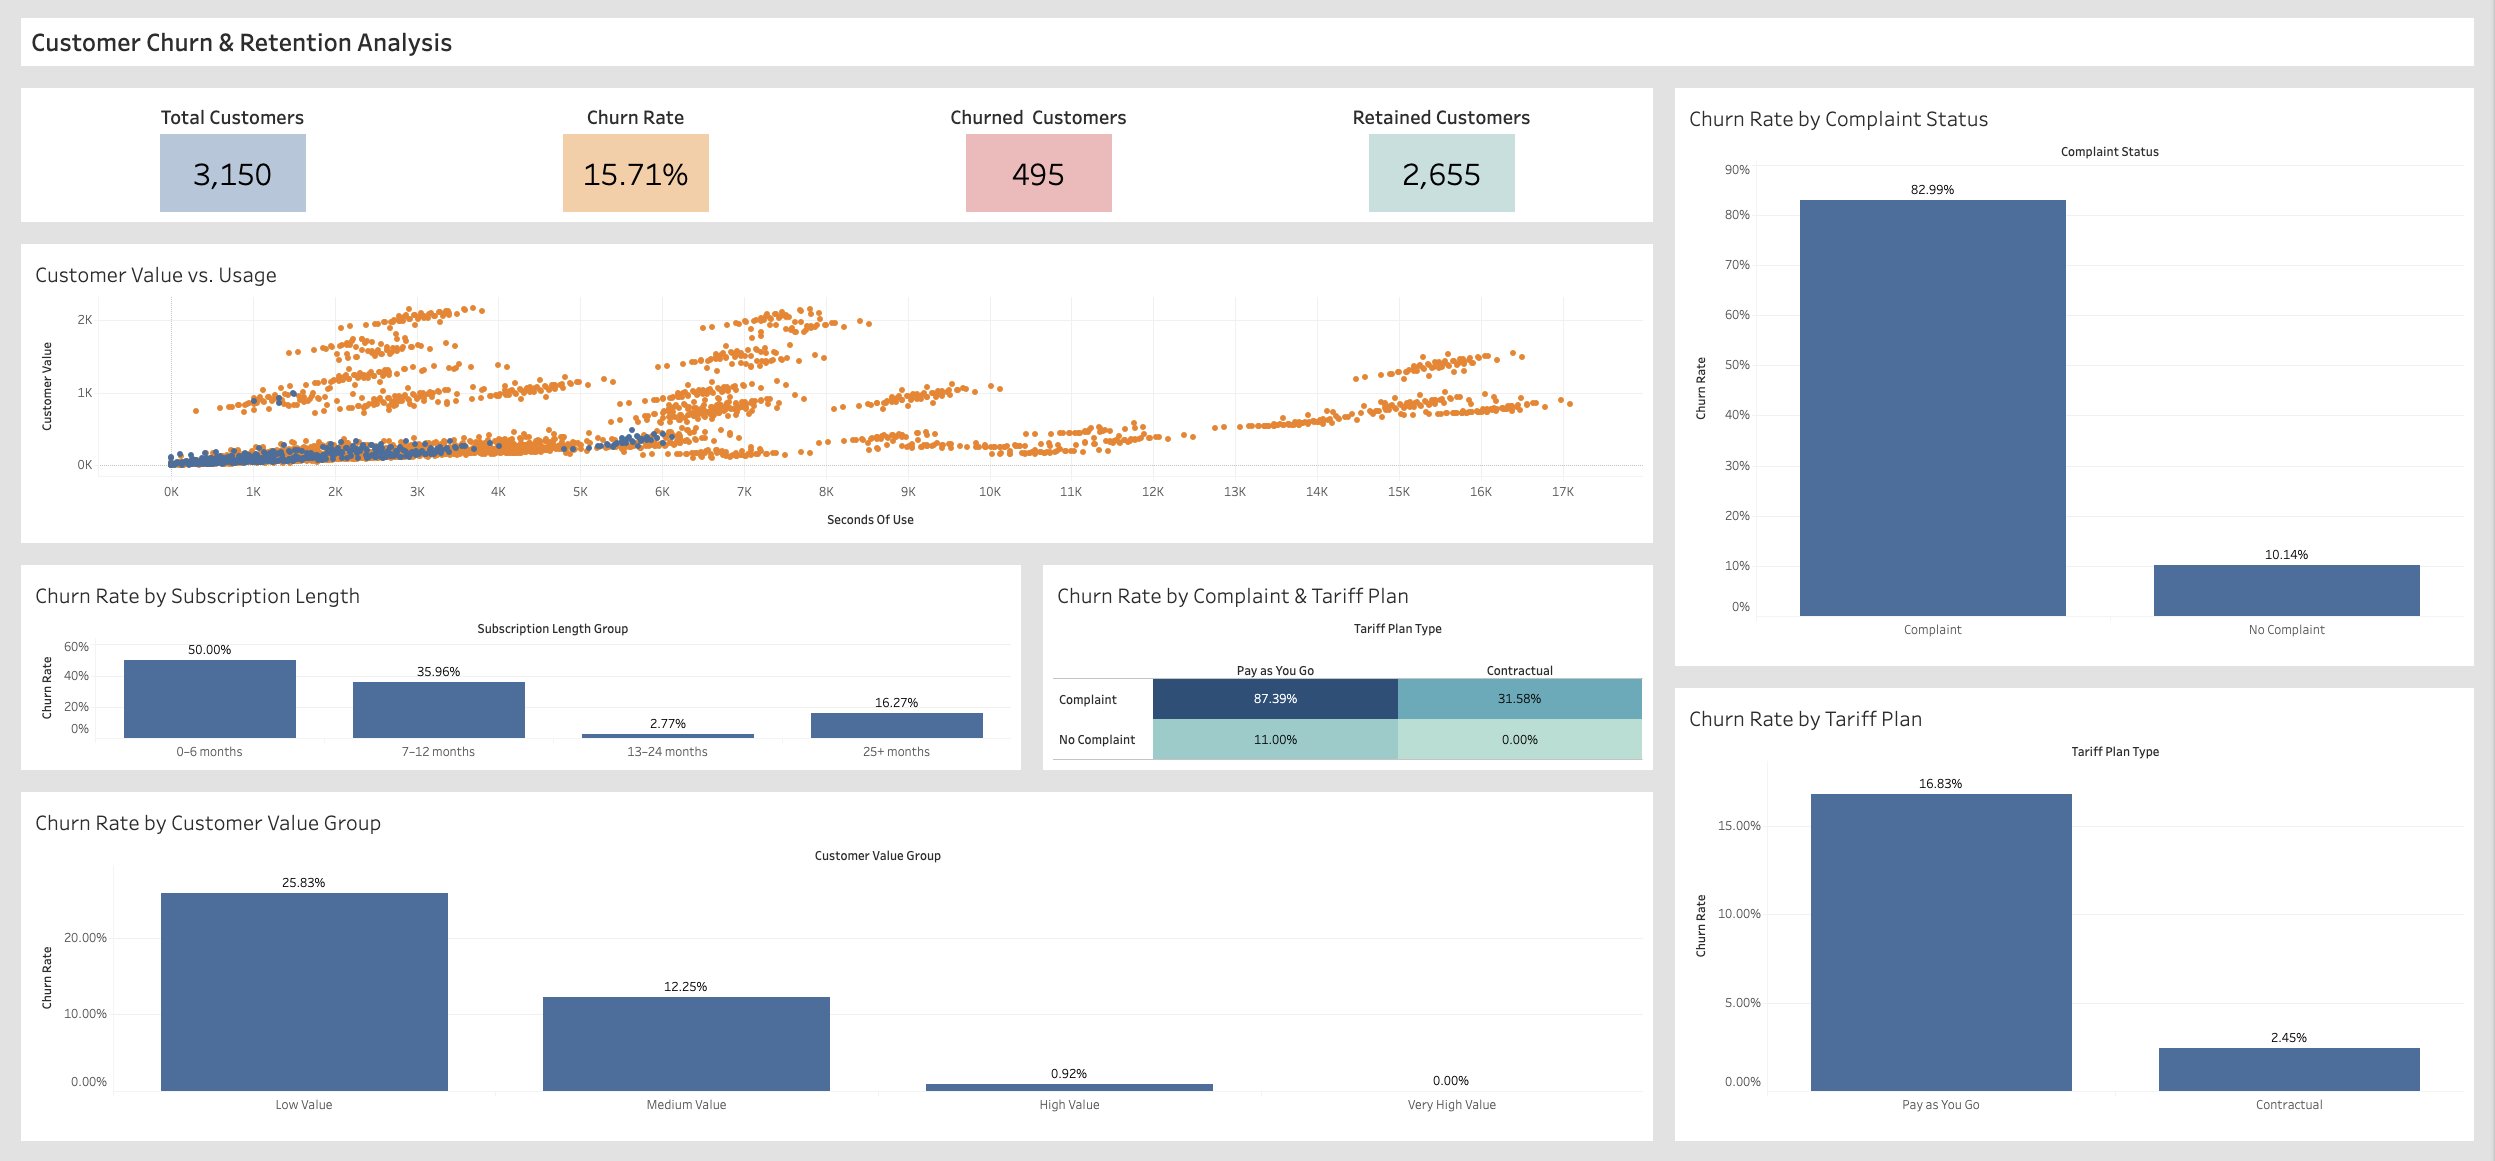

The page's visual inventory and layout, read from the dashboard file:
{"tool":"tableau","page":{"name":"Customer Churn & Retention Analysis","canvas":[1501,1160],"ordinal":0},"visuals":[{"type":"title","box":[8,8,992.4,54]},{"type":"worksheet","title":"Churn Rate by Complaint Status","mark":"Bar","rows":["churn"],"cols":["Calculation_0992975427104768"],"box":[1000.4,8,492.6,600]},{"type":"worksheet","title":"KPIs","mark":"Square","box":[8,62,992.4,156]},{"type":"worksheet","title":"Customer Value vs. Usage","mark":"Circle","rows":["customer_value"],"cols":["seconds_of_use"],"box":[8,218,992.4,410]},{"type":"worksheet","title":"Churn Rate by Tariff Plan","mark":"Bar","rows":["churn"],"cols":["Calculation_2208006962851841"],"box":[1000.4,608,492.6,544]},{"type":"worksheet","title":"Churn Rate by Subscription Length","mark":"Automatic","rows":["churn"],"cols":["Calculation_0992975428231169"],"box":[8,628,613.4,235]},{"type":"worksheet","title":"Churn Rate by Complaint & Tariff Plan","mark":"Automatic","rows":["Calculation_2208006962491392"],"cols":["Calculation_2208006962851841"],"box":[621.4,628,379,235]},{"type":"worksheet","title":"Churn Rate by Customer Value Group","mark":"Automatic","rows":["churn"],"cols":["Calculation_1161750575230977"],"box":[8,863,992.4,289]}]}

Visuals, with their boxes on the page's 1501x1160 design canvas (x1, y1, x2, y2). These are canvas units, not pixel positions in the 2495x1161 screenshot, which may show the page scaled, cropped or inside an application window:
title: 8:8:1000:62
"Churn Rate by Complaint Status" worksheet (Bar marks): 1000:8:1493:608
"KPIs" worksheet (Square marks): 8:62:1000:218
"Customer Value vs. Usage" worksheet (Circle marks): 8:218:1000:628
"Churn Rate by Tariff Plan" worksheet (Bar marks): 1000:608:1493:1152
"Churn Rate by Subscription Length" worksheet: 8:628:621:863
"Churn Rate by Complaint & Tariff Plan" worksheet: 621:628:1000:863
"Churn Rate by Customer Value Group" worksheet: 8:863:1000:1152
